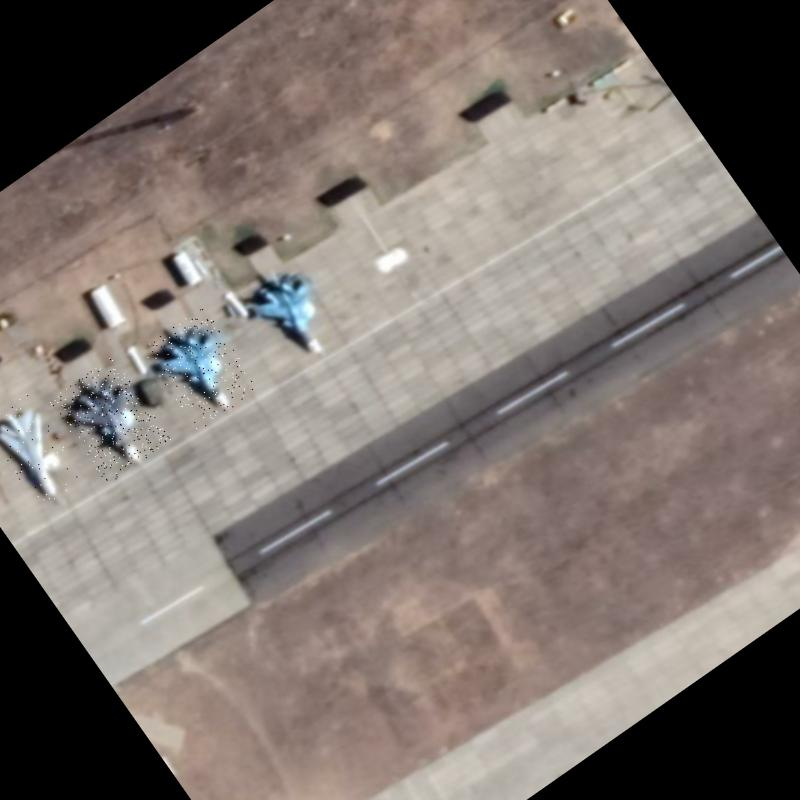A19: (49, 356, 172, 485), (234, 251, 354, 378), (141, 306, 261, 432)
A20: (0, 393, 87, 510)
